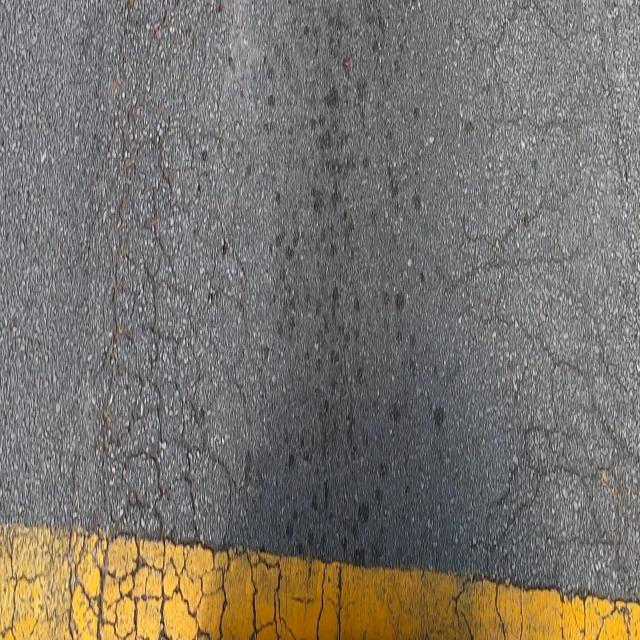Retak-Buaya: (0, 0, 349, 640), (453, 1, 640, 640)
